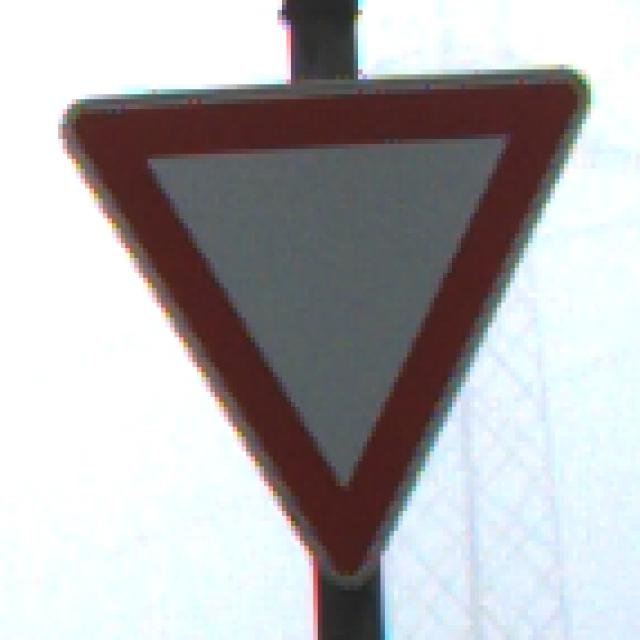Give Way: (55, 61, 587, 582)
